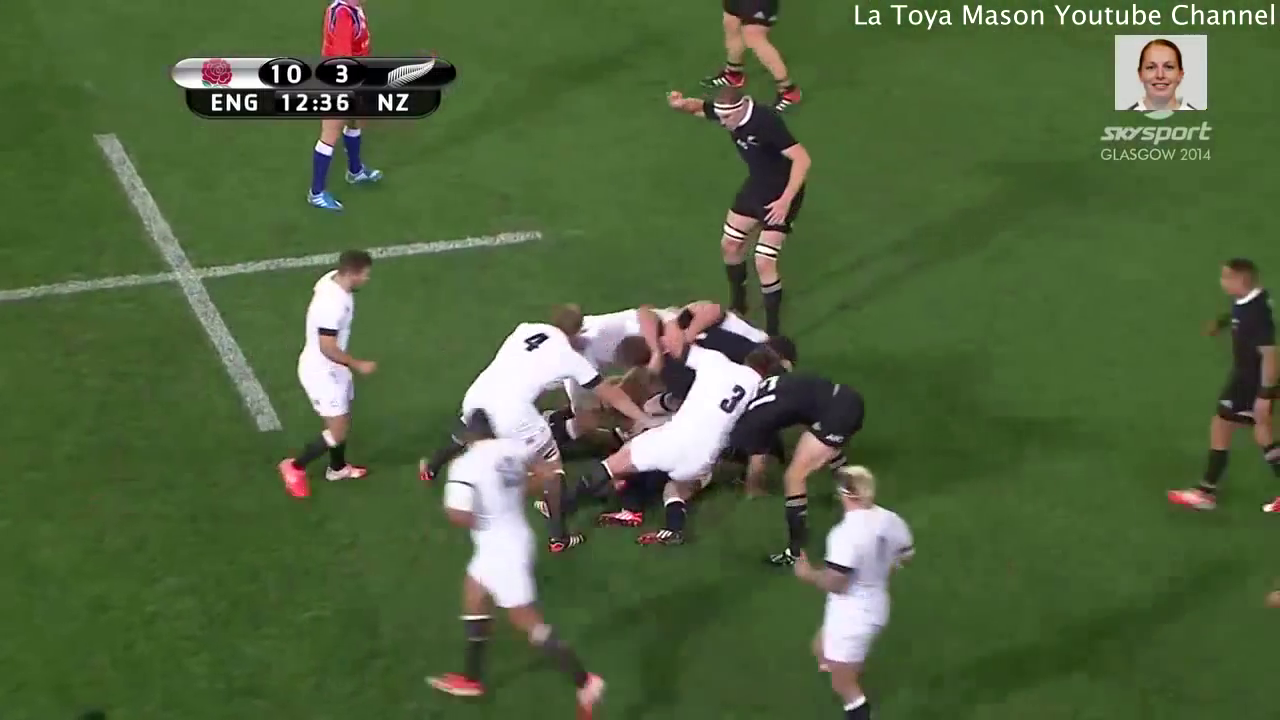10_metre: (1, 120, 548, 448)
player: (409, 285, 659, 554), (410, 404, 610, 717), (509, 335, 777, 540), (643, 78, 813, 352), (717, 344, 877, 605), (778, 452, 923, 720), (1148, 245, 1280, 520), (271, 235, 387, 504), (295, 1, 391, 225), (533, 284, 709, 375), (683, 1, 817, 120)
